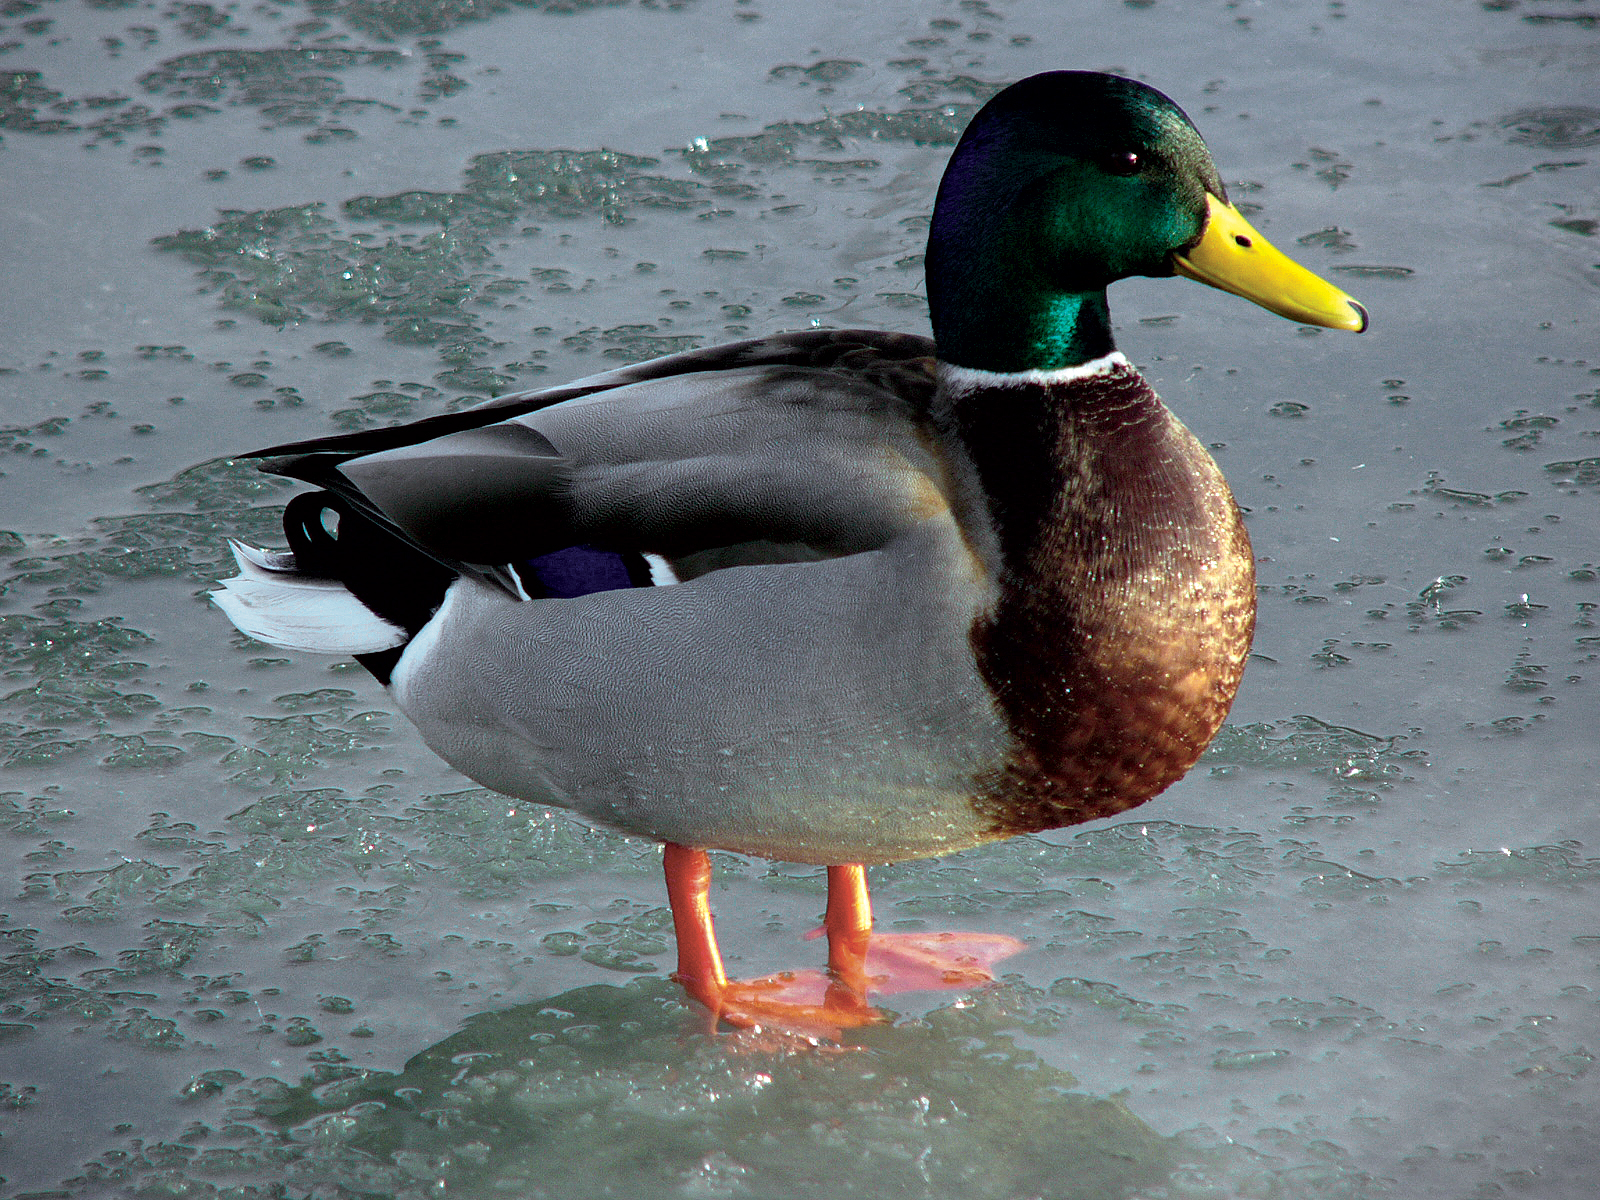duck: (146, 1, 1391, 1155)
